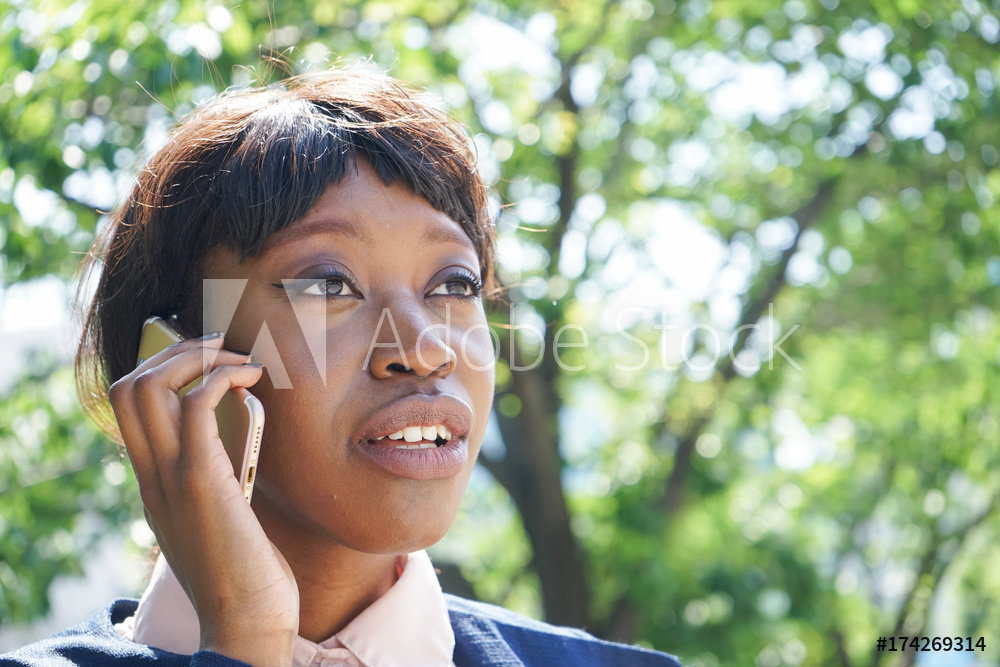phone: (106, 313, 281, 538)
talk: (111, 208, 497, 615)
